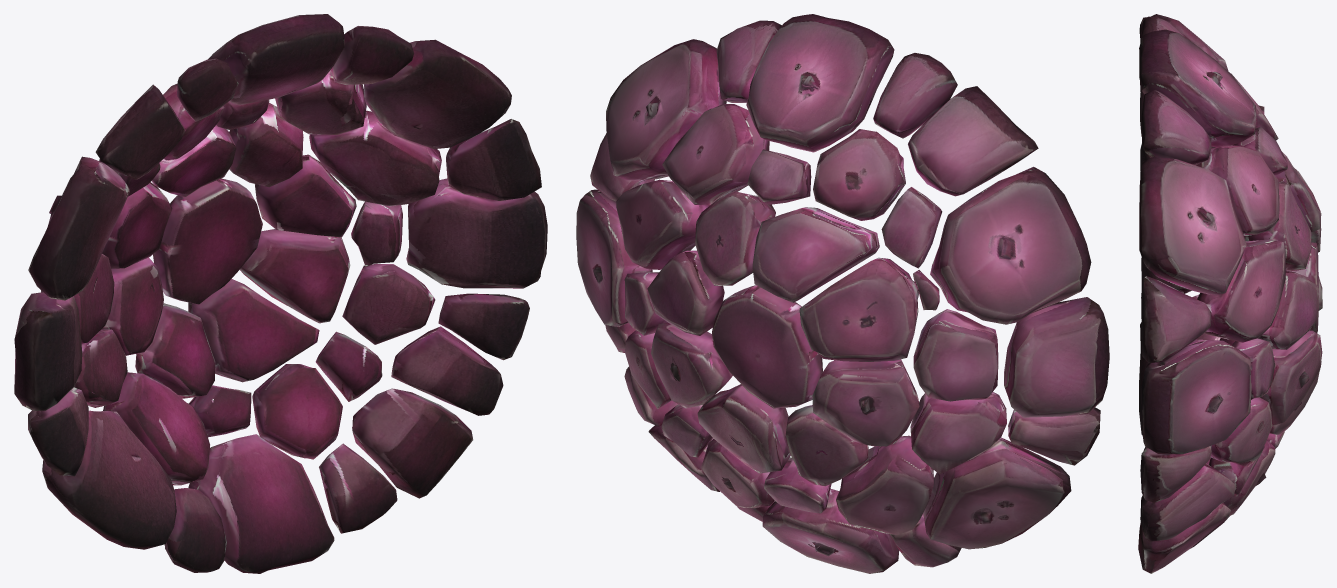
File: Purple Crystal 3.fbx
3 renders of one model, left to right at view 1: azimuth 30°, elevation 25°; view 2: azimuth 150°, elevation 25°; view 3: azimuth 270°, elevation 25°, orthographic. The views are drawn at different scales.
Parts seen in each view (by area): view 1: texture_mapping; view 2: texture_mapping; view 3: texture_mapping.
Boxes of the visible parts, x1,y1,x2,y2 form: texture_mapping: (14,14,547,573); texture_mapping: (576,14,1109,573); texture_mapping: (1138,14,1322,573).
Bounding box in the file's own units: 6.01 × 5.93 × 1.95.
Materials: 1 (1 with a texture image).
